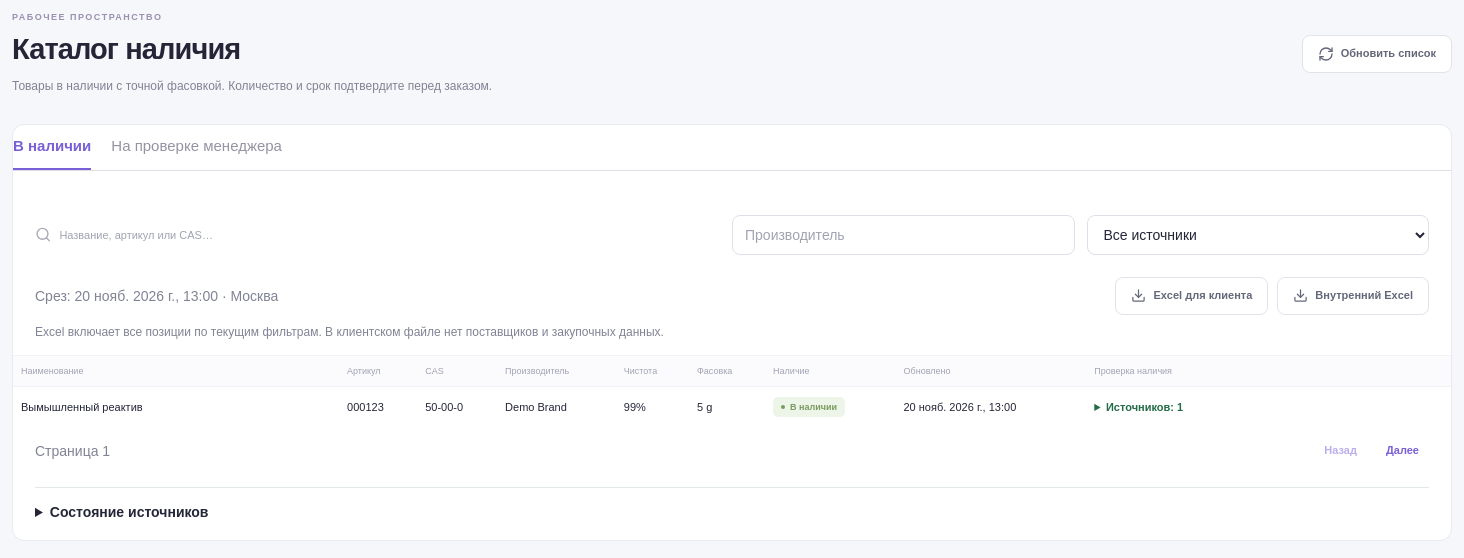
Test: stock catalogue › exports all filtered results at the selected snapshot, never just the current cursor
Later steps or results of the test are not shown.
Type "000123" into the field named "Поиск по наличию" at (390, 235), box [59,221,720,249]
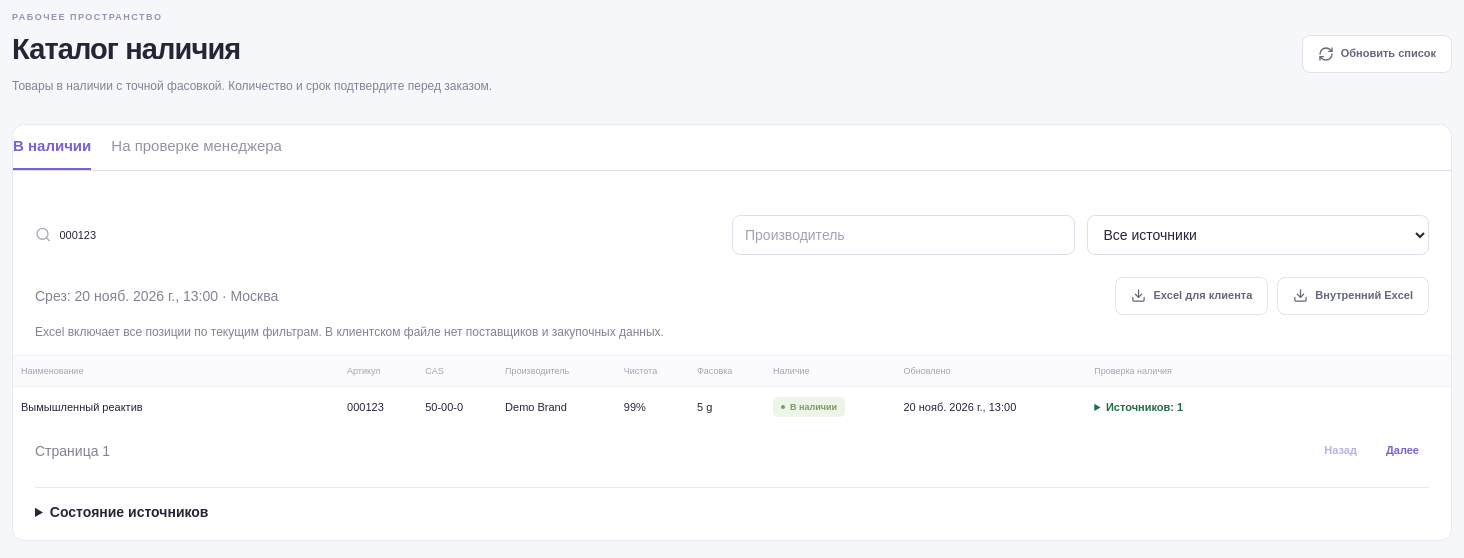
Type "Demo Brand" into the field labelled "Производитель" at (903, 235), box [732,215,1074,255]
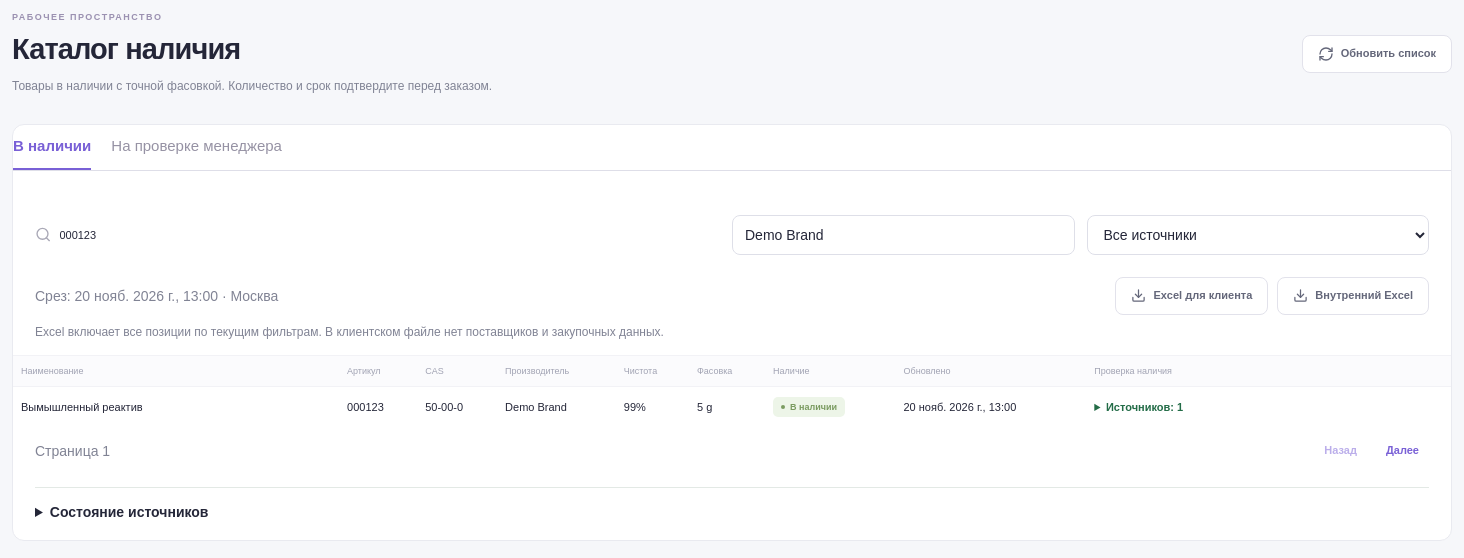
Select "Тестовый поставщик" in the dropdown named "Источник наличия" at (1258, 235), box [1086,215,1429,255]
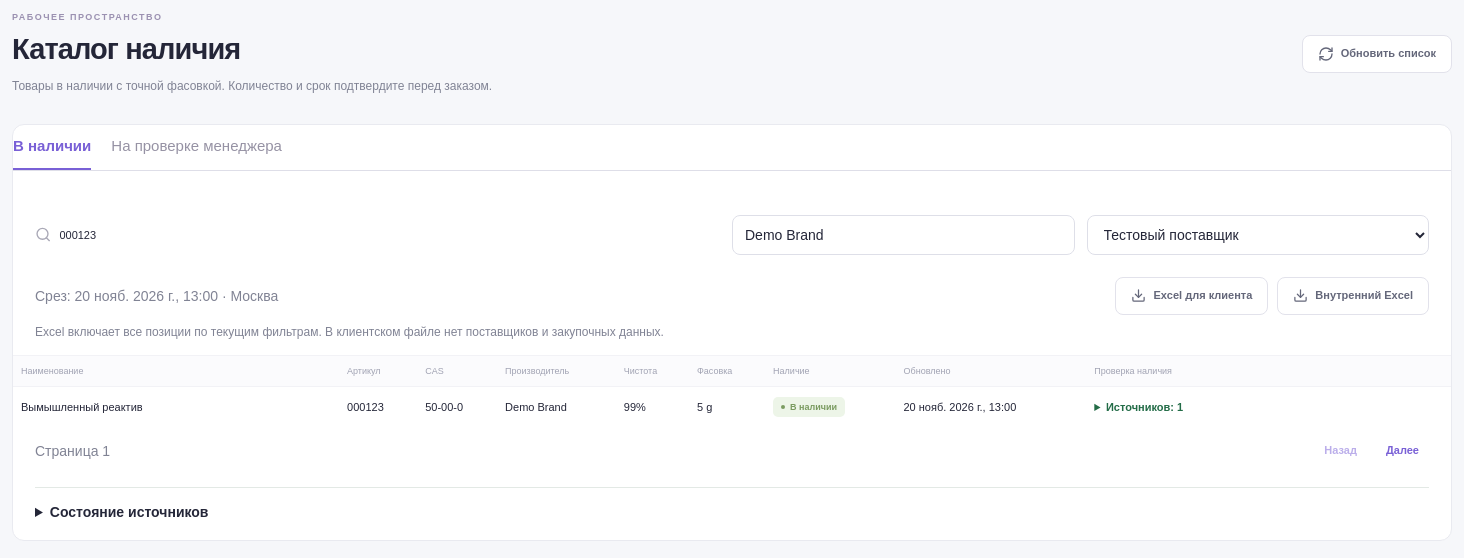
Click the button "Далее" at (1402, 451), box [1376,437,1429,465]
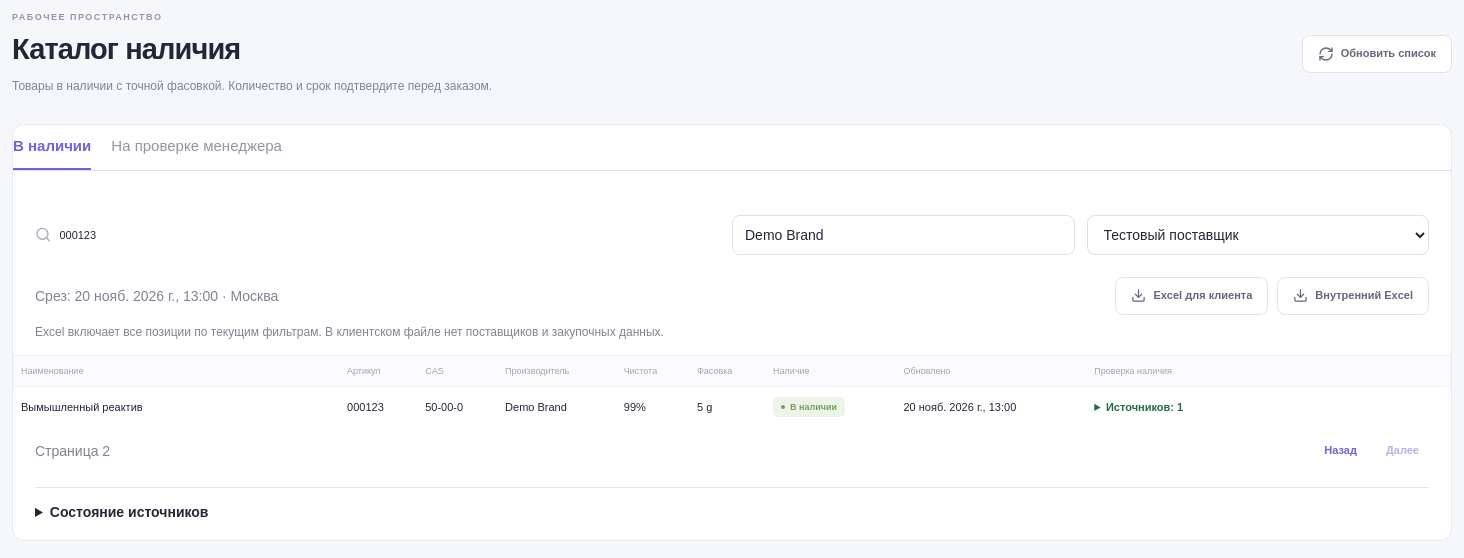
Result: the text "Страница 2" is shown at [35,443,110,459]
